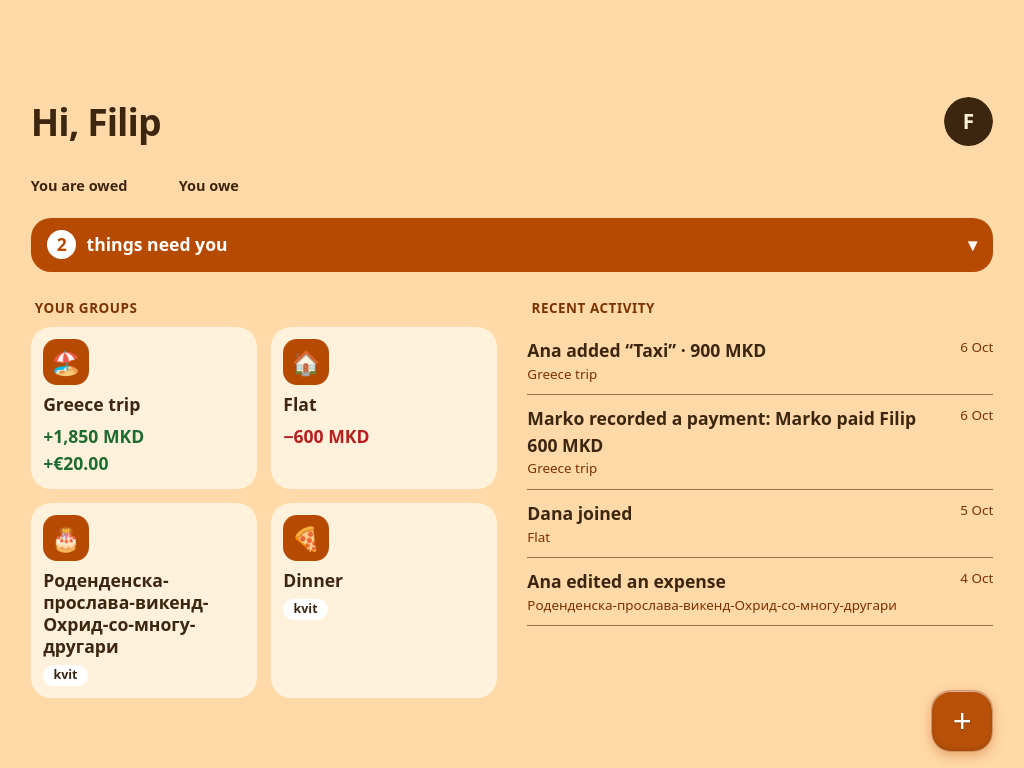
Scenario: personal spending from the home screen › closes the menu when the sheet opens and stays on Home after the save
This screenshot has width=1024, height=768.
Click the button named "Add" at (962, 721), box [931,690,993,752]
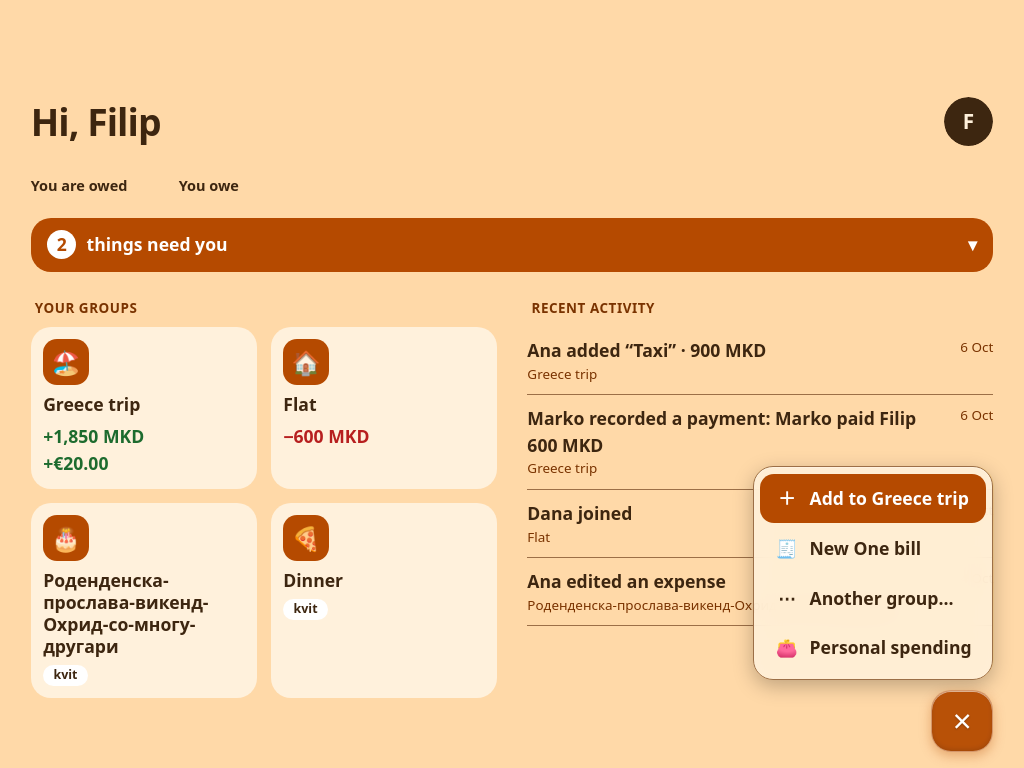
Click the menu item "👛 Personal spending" at (873, 648), box [760,623,986,672]
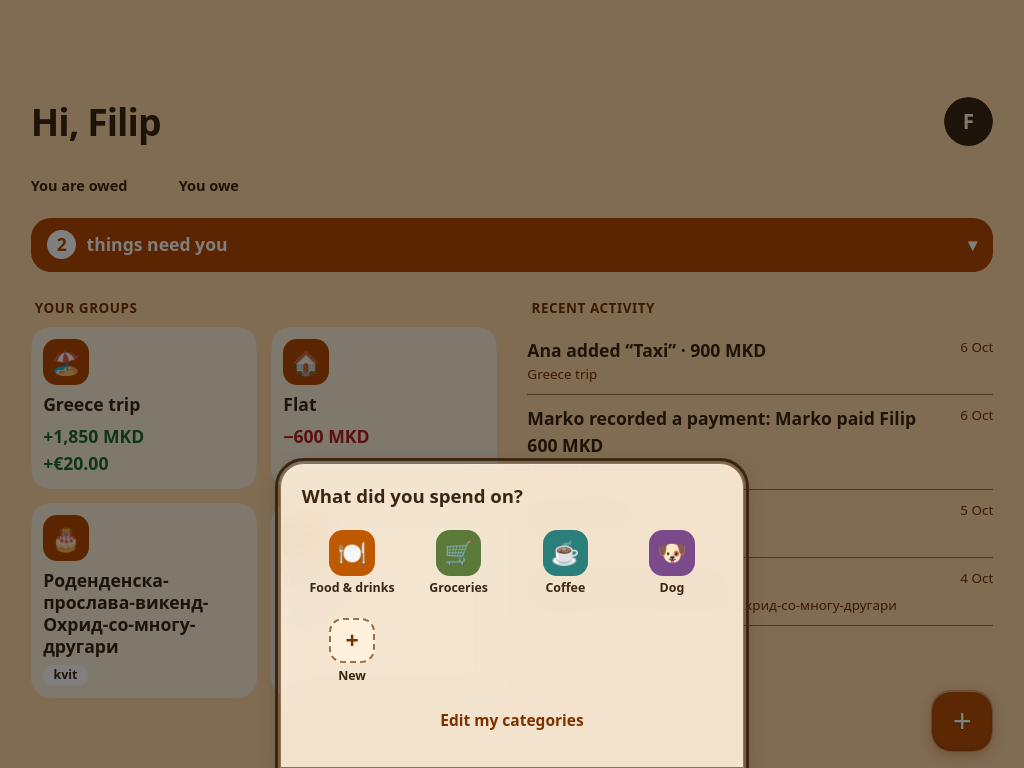
Result: the menu is gone
Click the button "☕ Coffee" at (565, 563), box [515,524,616,601]
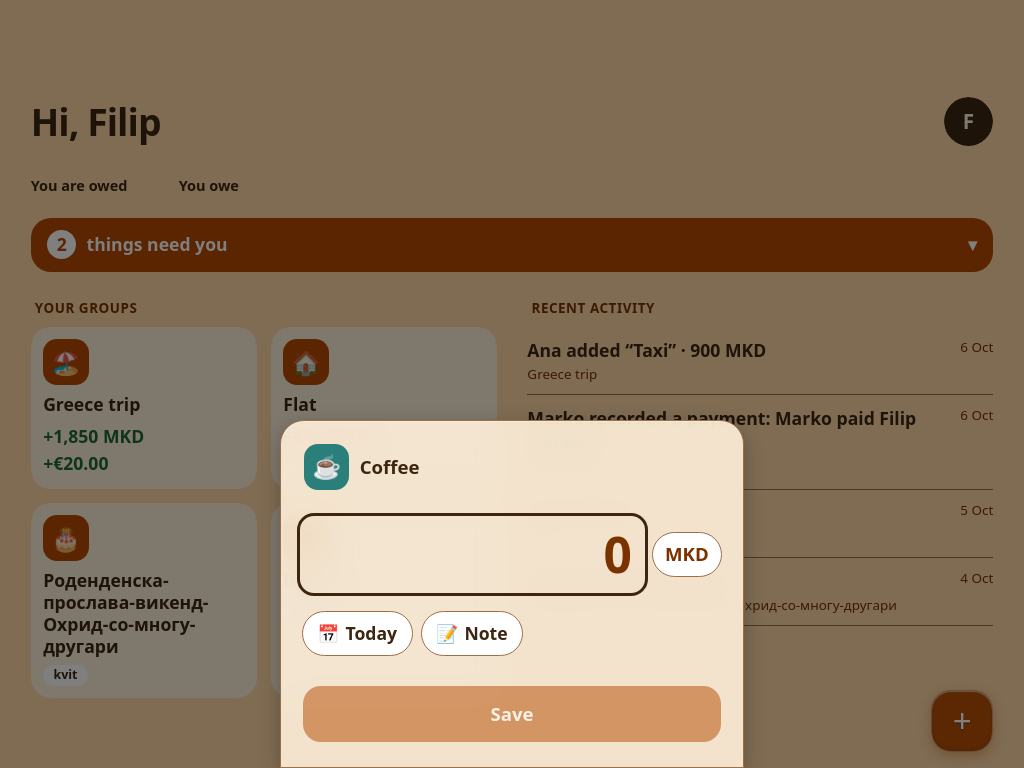
Type "120" into the field named "Amount" at (473, 554), box [300,516,646,592]
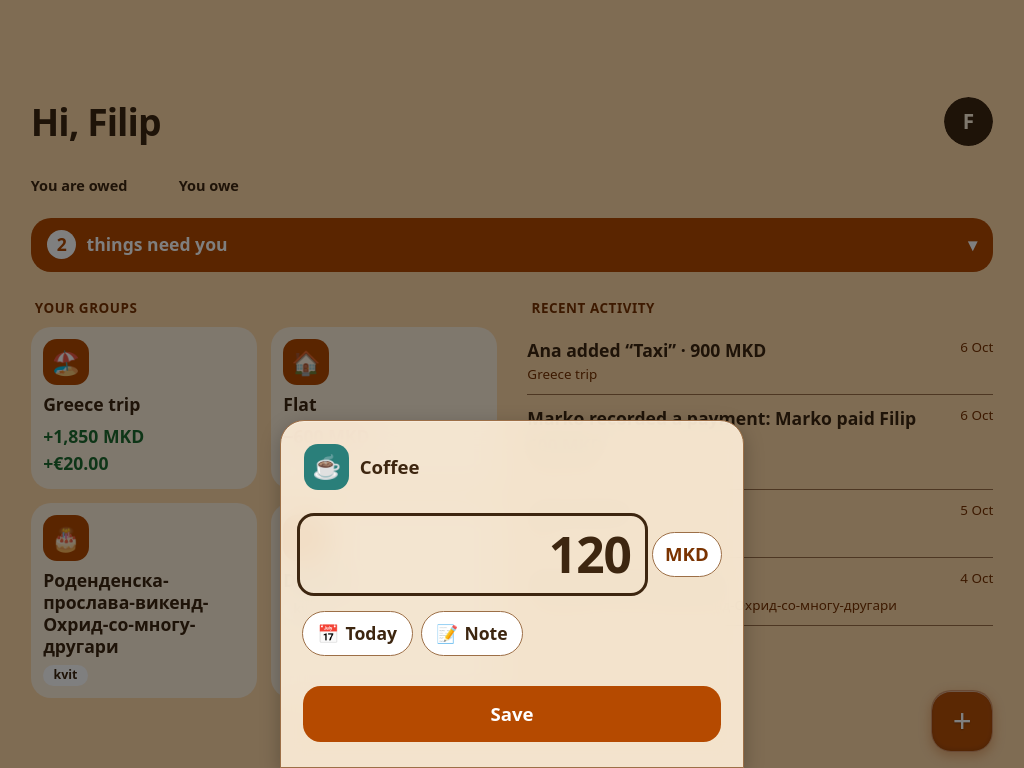
Click the button "Save" at (512, 714), box [302,685,722,743]
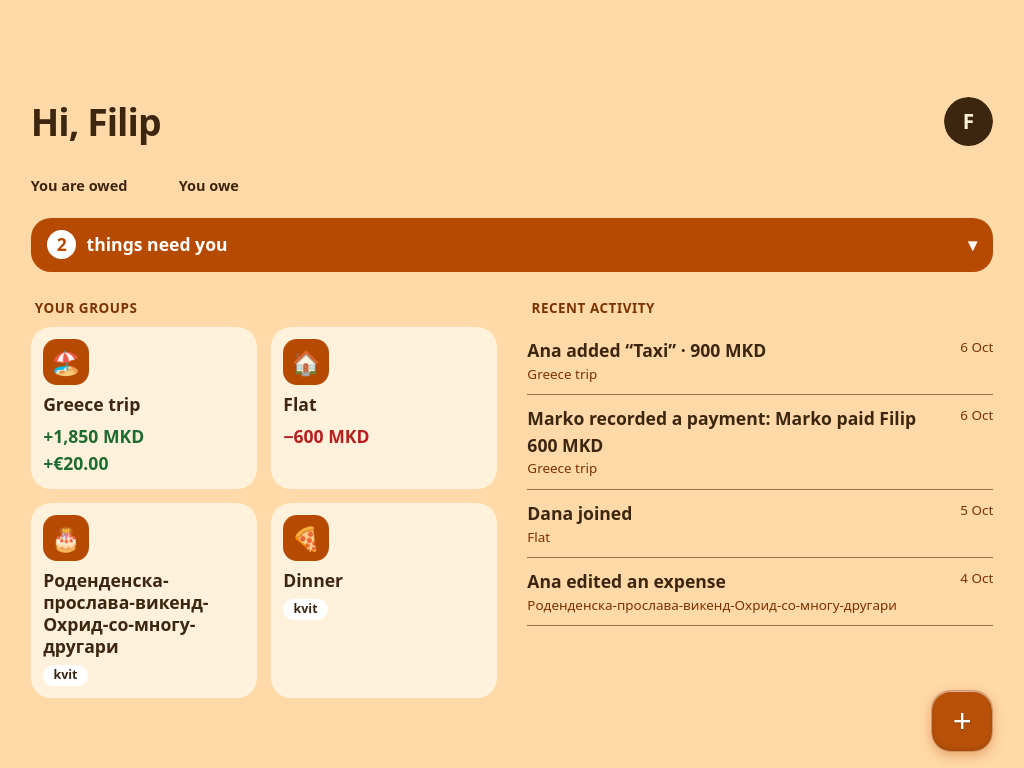
Result: the dialog is gone
